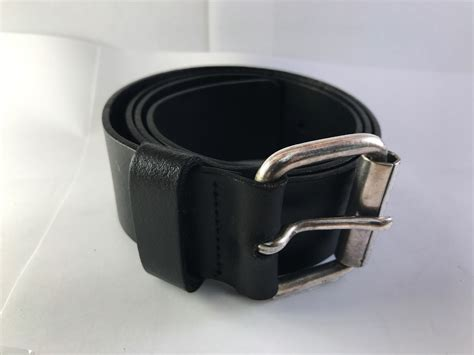cuero: (101, 65, 392, 300)
